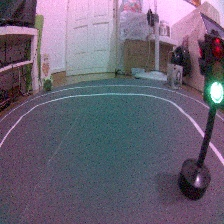green: (177, 28, 224, 201)
